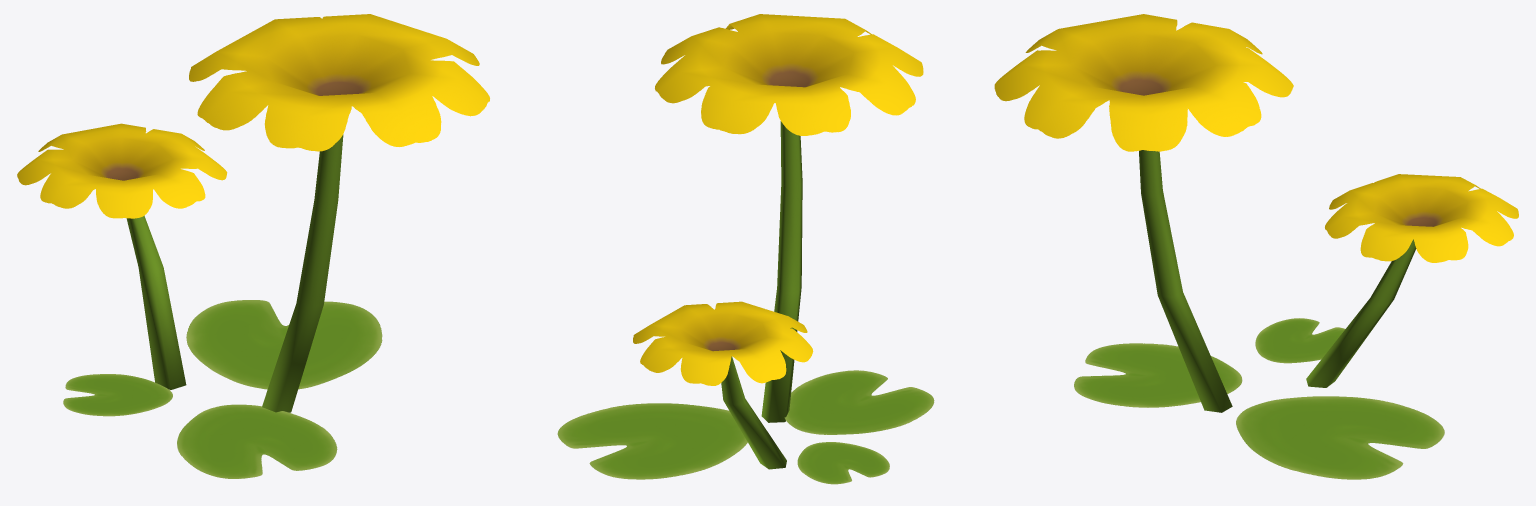
The model's file is waterplant_3.fbx.
3 views of the same model, side by side, from view 1: azimuth 30°, elevation 25°; view 2: azimuth 150°, elevation 25°; view 3: azimuth 270°, elevation 25° (orthographic). The views are drawn at different scales.
Visible parts, largest first — view 1: water_plant_3; view 2: water_plant_3; view 3: water_plant_3.
Boxes of the visible parts, x1,y1,x2,y2 form: water_plant_3: [17, 14, 489, 478]; water_plant_3: [557, 14, 934, 484]; water_plant_3: [994, 14, 1518, 479].
Bounding box in the file's own units: 269 × 250 × 343.
